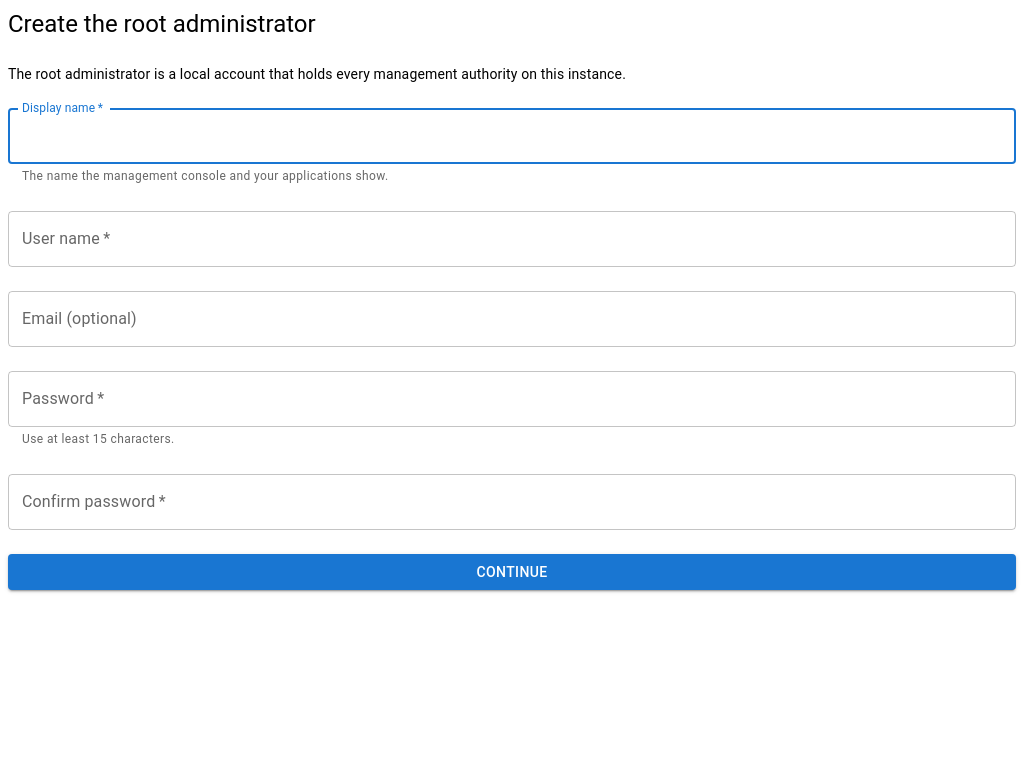
Test: RootAccountStep › refuses a password shorter than the minimum without continuing
Type "  Root Admin  " into the field labelled "Display name *".
click(512, 136); type("  Root Admin  ")  # box [8,108,1016,164]
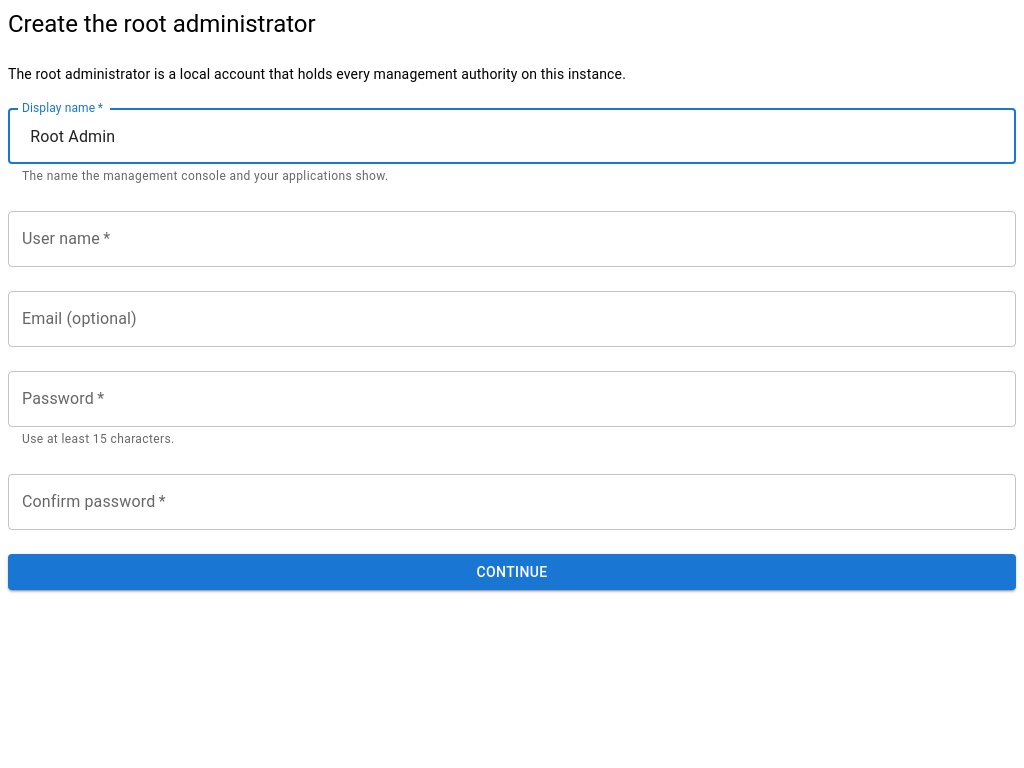
Type "  root  " into the field labelled "User name *".
click(512, 239); type("  root  ")  # box [8,211,1016,267]
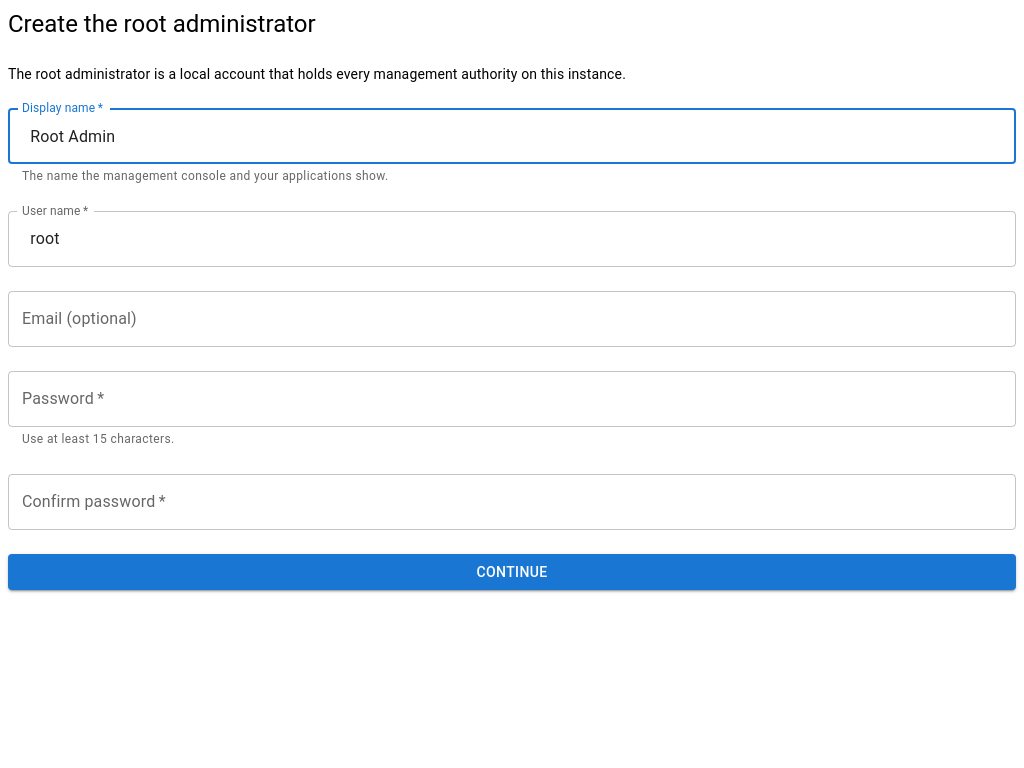
Type "too short" into the password field labelled "Password *".
click(512, 399); type("too short")  # box [8,371,1016,427]
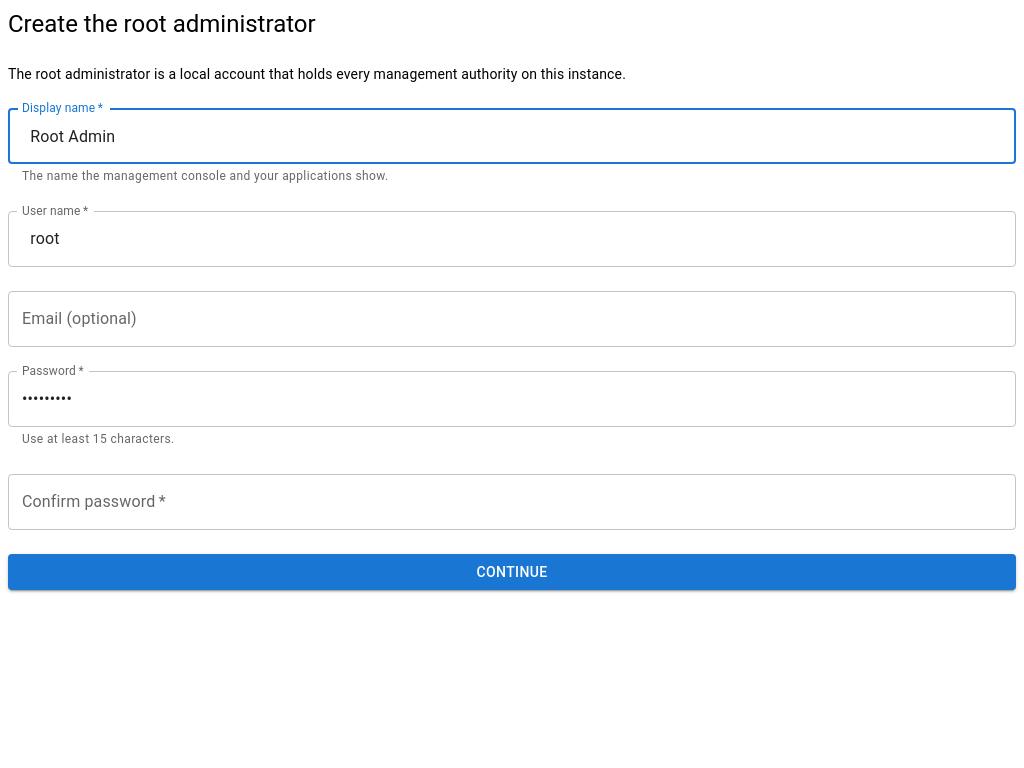
Type "too short" into the password field labelled "Confirm password *".
click(512, 502); type("too short")  # box [8,474,1016,530]
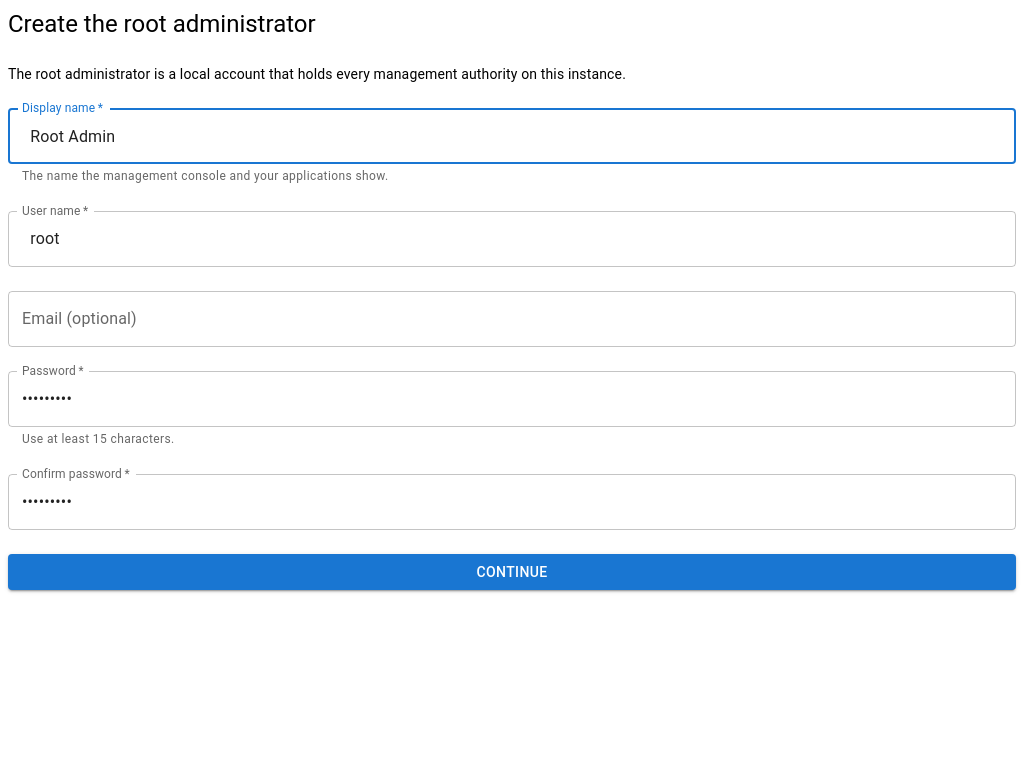
Click the button "Continue".
click(512, 572)  # box [8,554,1016,590]
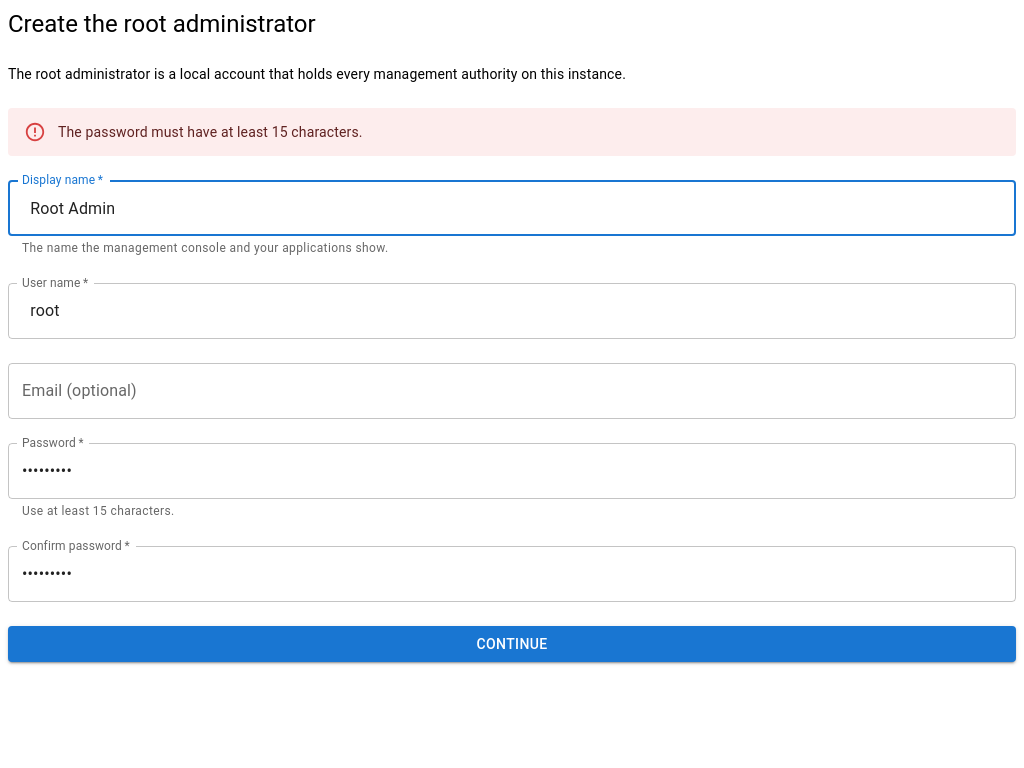
Result: the message reads "The password must have at least 15 characters." at [58,124,363,140]
